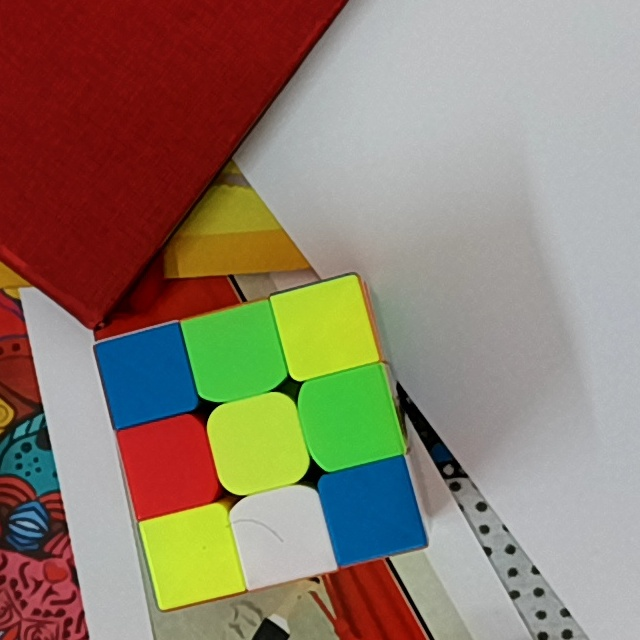tile: (315, 382, 387, 456), (222, 406, 294, 480), (245, 497, 319, 569), (335, 475, 407, 548), (135, 429, 205, 502), (158, 519, 228, 592), (111, 340, 181, 410), (290, 293, 360, 363), (201, 318, 271, 387)
